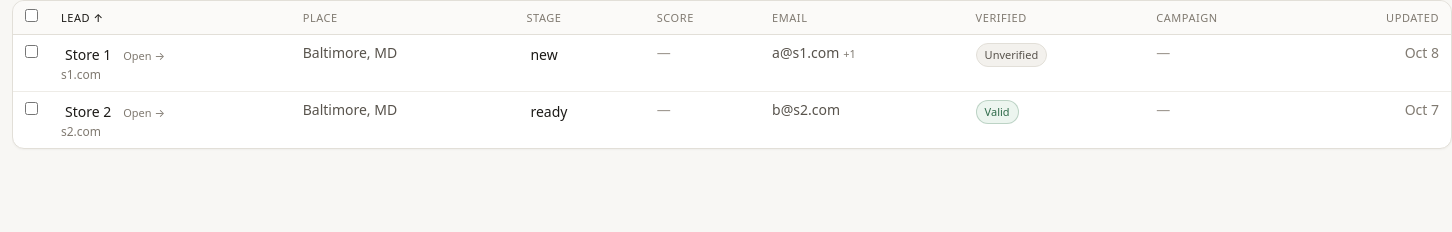
LeadsTable › posts "Research selected" to the research queue and says what happened
Click the checkbox named "Select Store 1" at (32, 52), box x1=25 y1=45 x2=38 y2=58
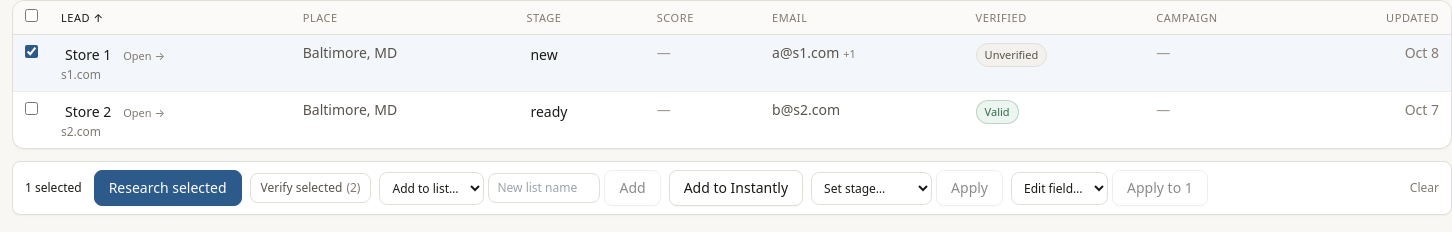
Click the button "Research selected" at (168, 188), box x1=94 y1=170 x2=242 y2=206
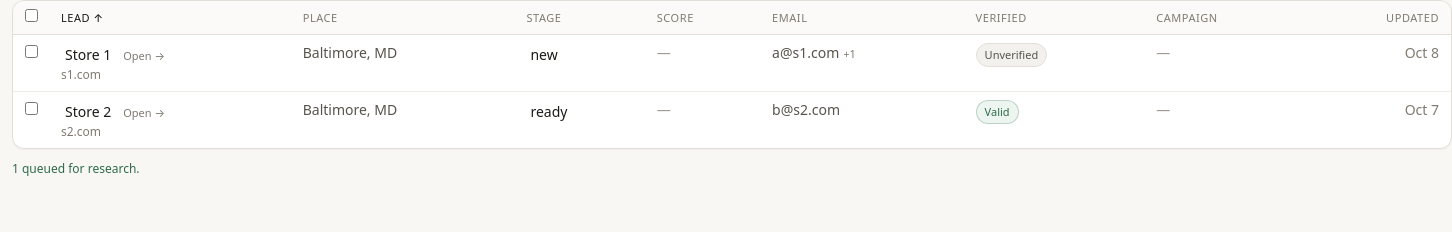
Check: the message reads "1 queued for research.", box x1=12 y1=160 x2=140 y2=177
